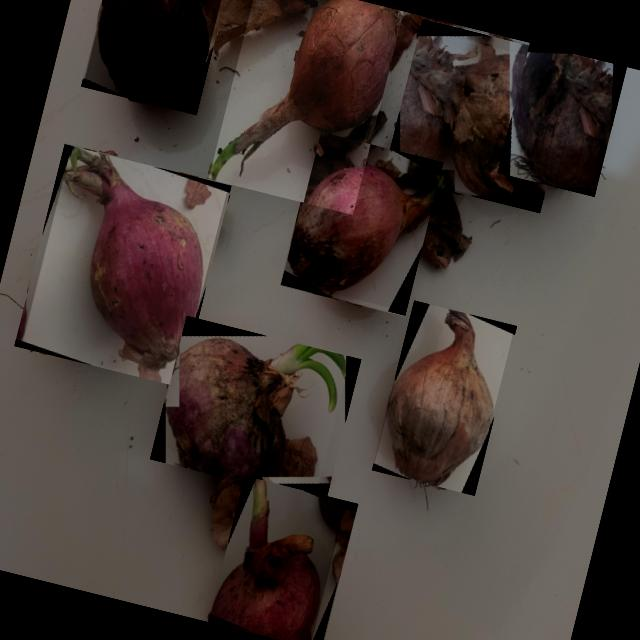rotten: (63, 148, 201, 382), (409, 37, 558, 196), (286, 164, 438, 292), (385, 309, 491, 486), (512, 52, 606, 187), (96, 0, 206, 107)
sprouting: (209, 0, 397, 180), (164, 337, 345, 482), (210, 478, 318, 640)
